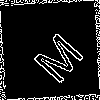M: (24, 24, 86, 86)
